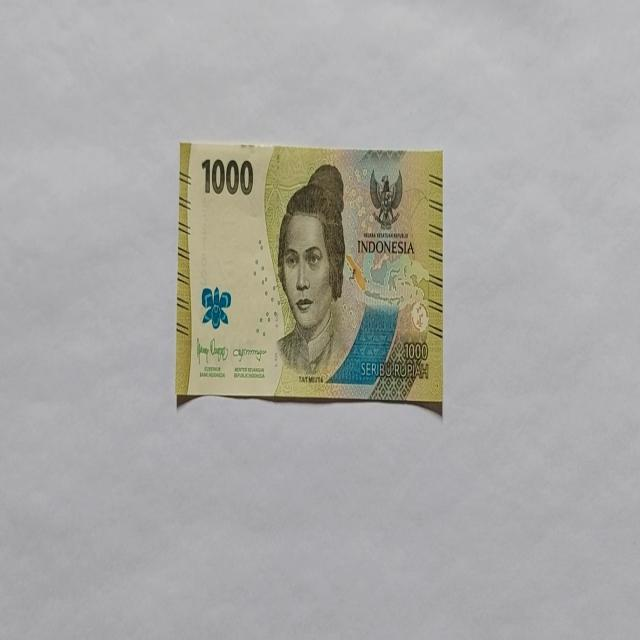seribu rupiah kertas: (174, 140, 443, 410)
